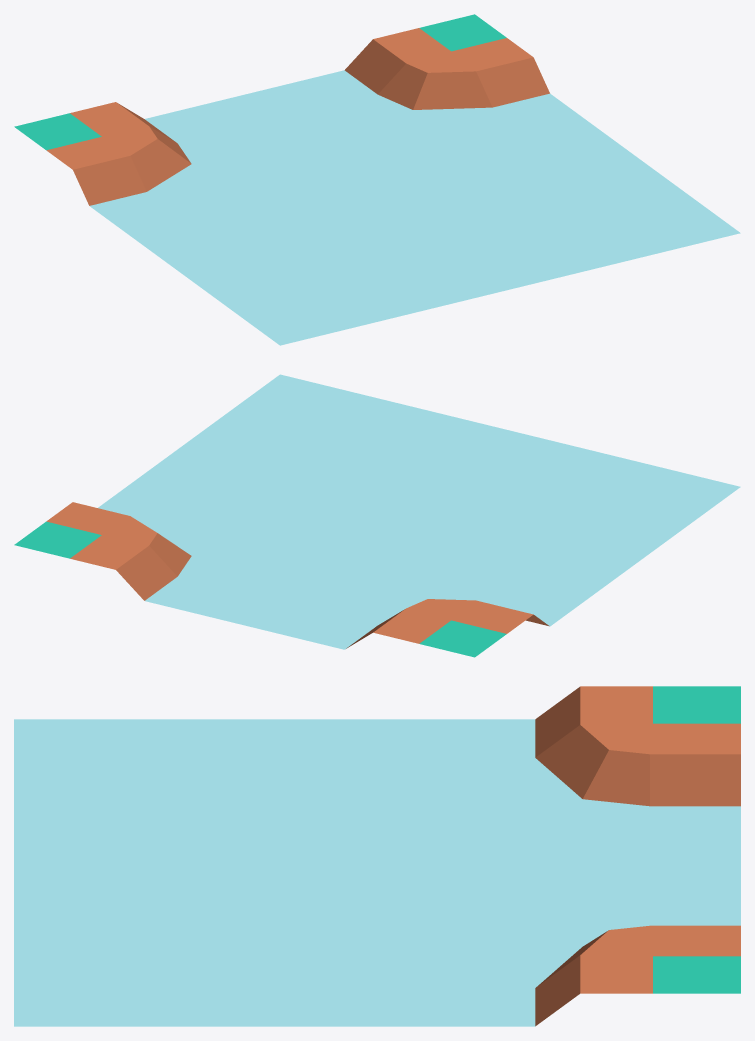
The model's file is ground_riverSideOpen.dae.
3 views of the same model, one above another, from view 1: azimuth 30°, elevation 25°; view 2: azimuth 150°, elevation 25°; view 3: azimuth 270°, elevation 25° (orthographic). The views are drawn at different scales.
Visible parts, largest first — view 1: ground_riverSideOpen; view 2: ground_riverSideOpen; view 3: ground_riverSideOpen.
Boxes of the visible parts, x1,y1,x2,y2 form: ground_riverSideOpen: (14, 14, 740, 345); ground_riverSideOpen: (14, 374, 740, 657); ground_riverSideOpen: (14, 686, 740, 1026).
Size of the model in its own units: 1 by 0.05 by 1.
